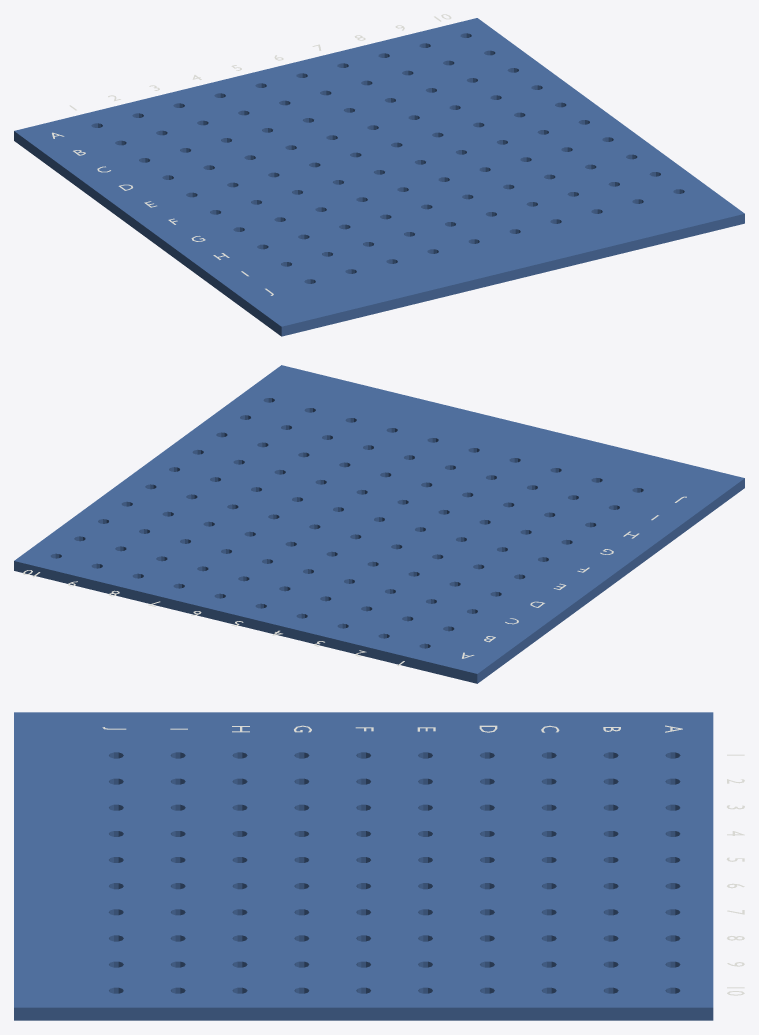
Rendered from ocean_grid_10x10_holes.glb.
3 views of the same model, one above another, from view 1: azimuth 30°, elevation 25°; view 2: azimuth 150°, elevation 25°; view 3: azimuth 270°, elevation 25° (orthographic). The views are drawn at different scales.
Visible parts, largest first — view 1: ocean_grid, grid_labels; view 2: ocean_grid, grid_labels; view 3: ocean_grid, grid_labels.
Part boxes in pixels (left/top/right/bottom): ocean_grid: left=14, top=18, right=744, bottom=336; grid_labels: left=52, top=14, right=451, bottom=295; ocean_grid: left=14, top=365, right=744, bottom=683; grid_labels: left=22, top=496, right=686, bottom=666; ocean_grid: left=14, top=712, right=713, bottom=1020; grid_labels: left=102, top=725, right=744, bottom=995.
Size of the model in its own units: 0.147 by 0.00305 by 0.1537.
